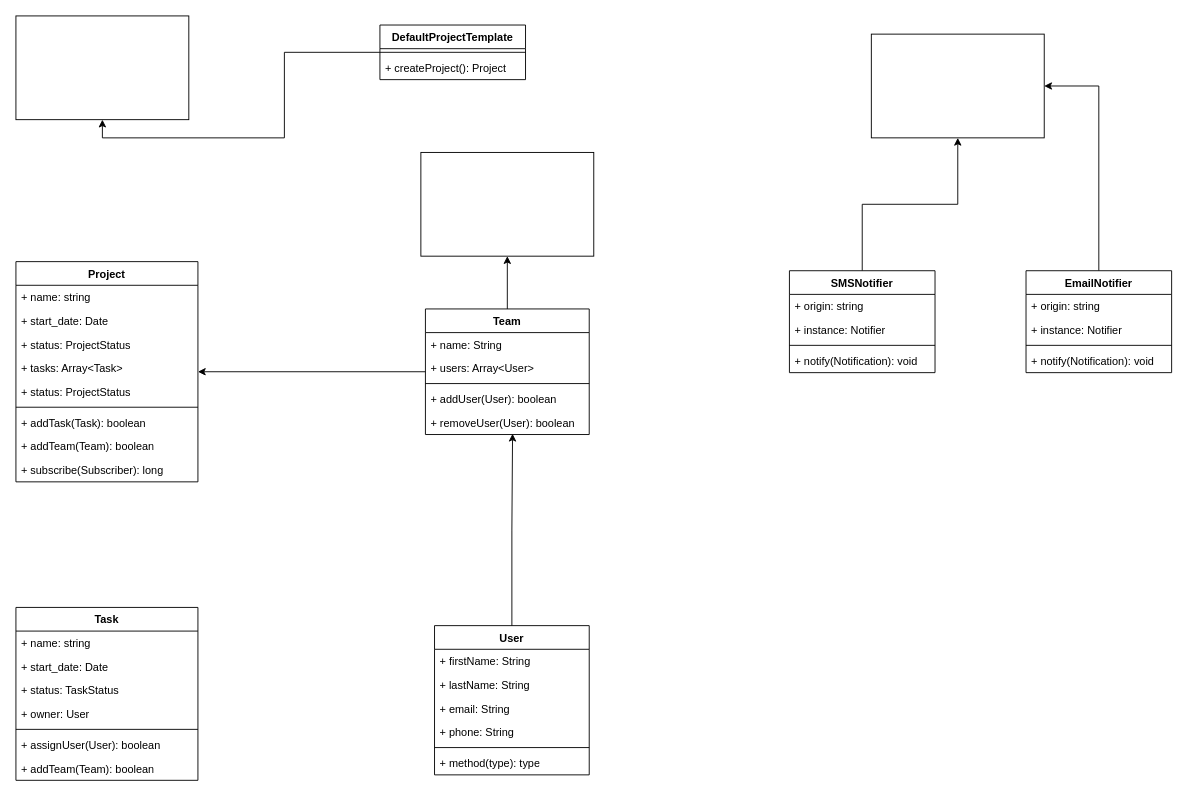
Some shapes in this 1188 by 799 pixel diagram are drawn without their labels. Here are the shapes that lost their labels. From the top down, the centre of each, then its label:
At pixel 102 67: "<<Interface>> ProjectTemplate + createProject(): Project".
At pixel 957 85: "<<Interface>> Notifier + notify(Notification ): void".
At pixel 507 204: "<<Interface>> Subscriber + notify(Event): void".
